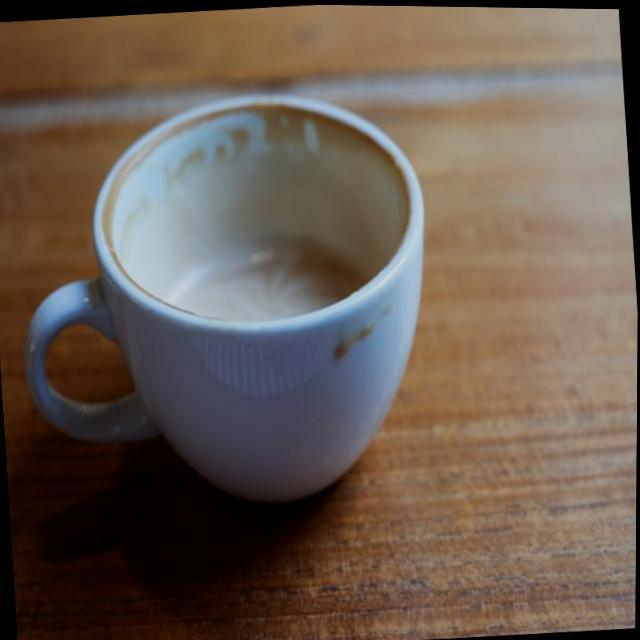cup: (1, 73, 458, 553)
